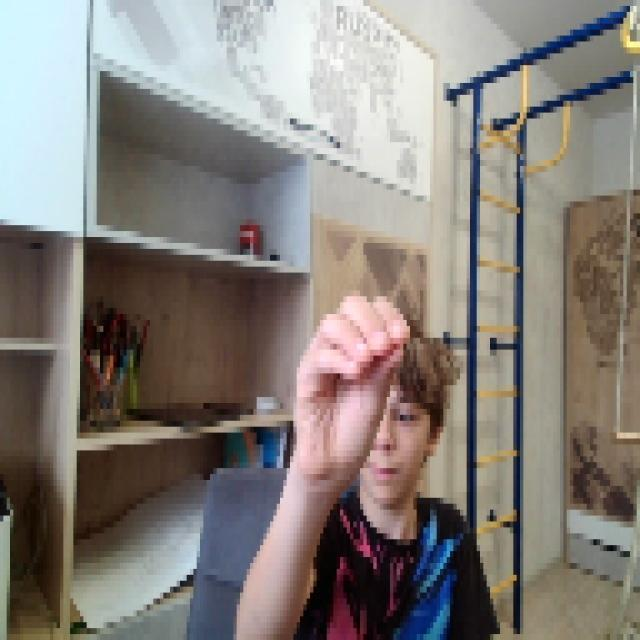left_click: (290, 285, 407, 474)
